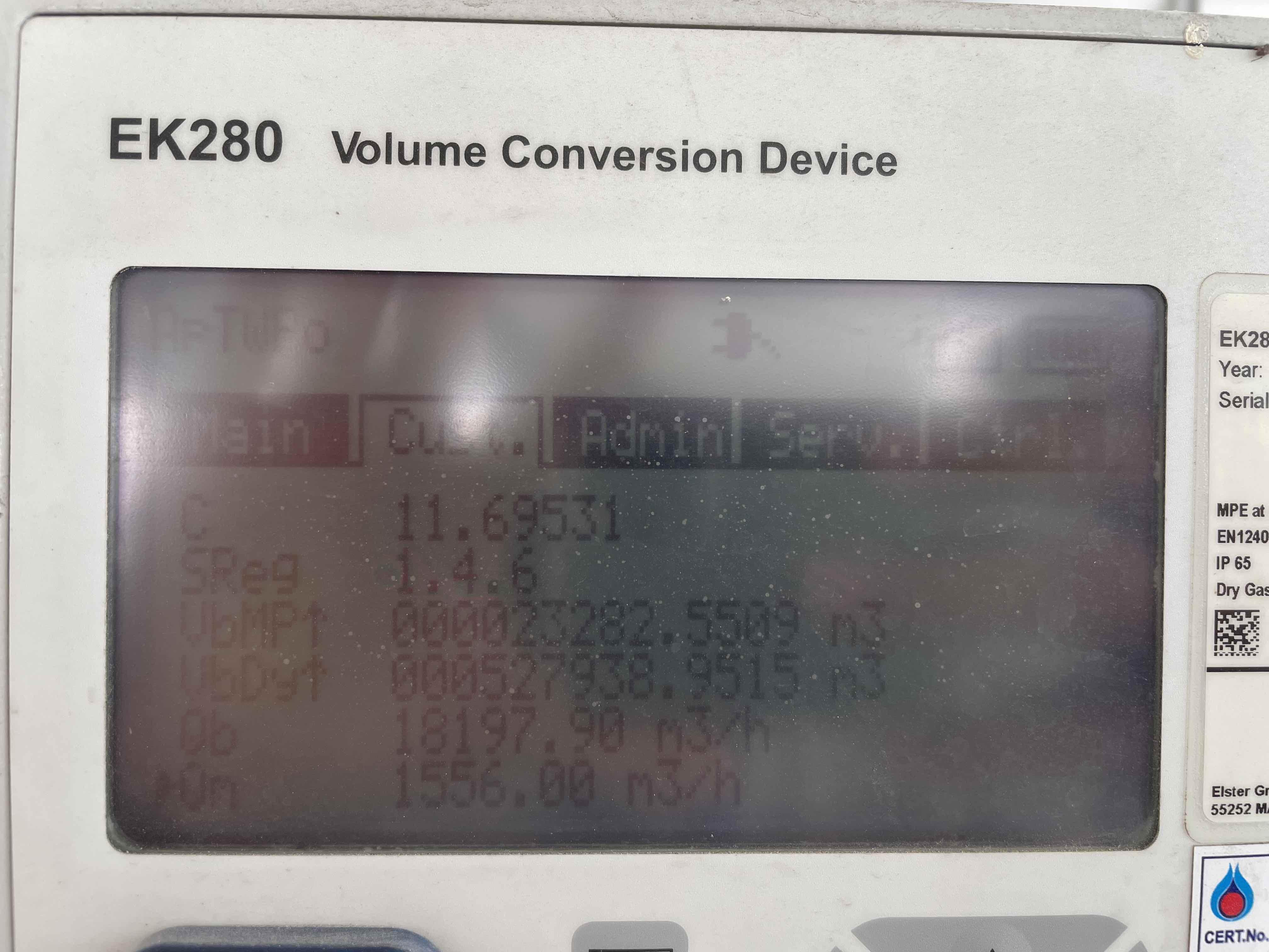digital_screen: (113, 272, 1162, 852)
